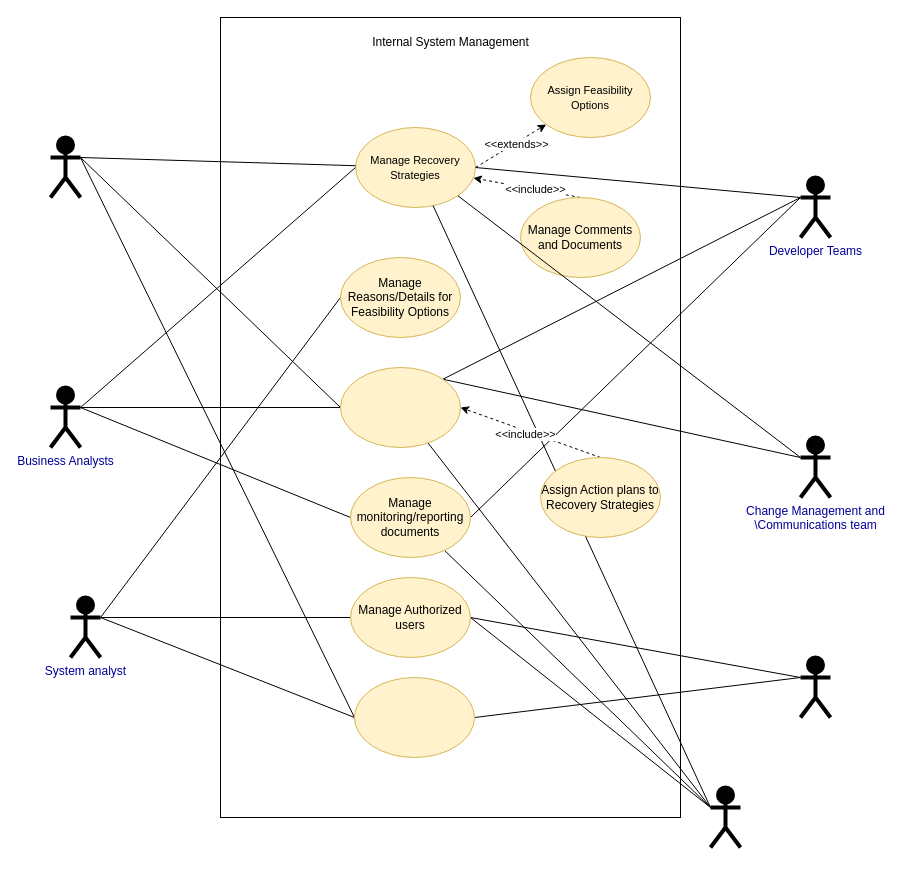
Some shapes in this 902 by 886 pixel diagram are drawn without their labels. The shapes that lost their labels are listed below. From the top down, each one's centre as x and y in pixels, then its label:
(65,167): Project Manager
(400,407): Manage action plans
(815,687): Tester
(414,717): System Availability Management
(725,817): Authorized Users
